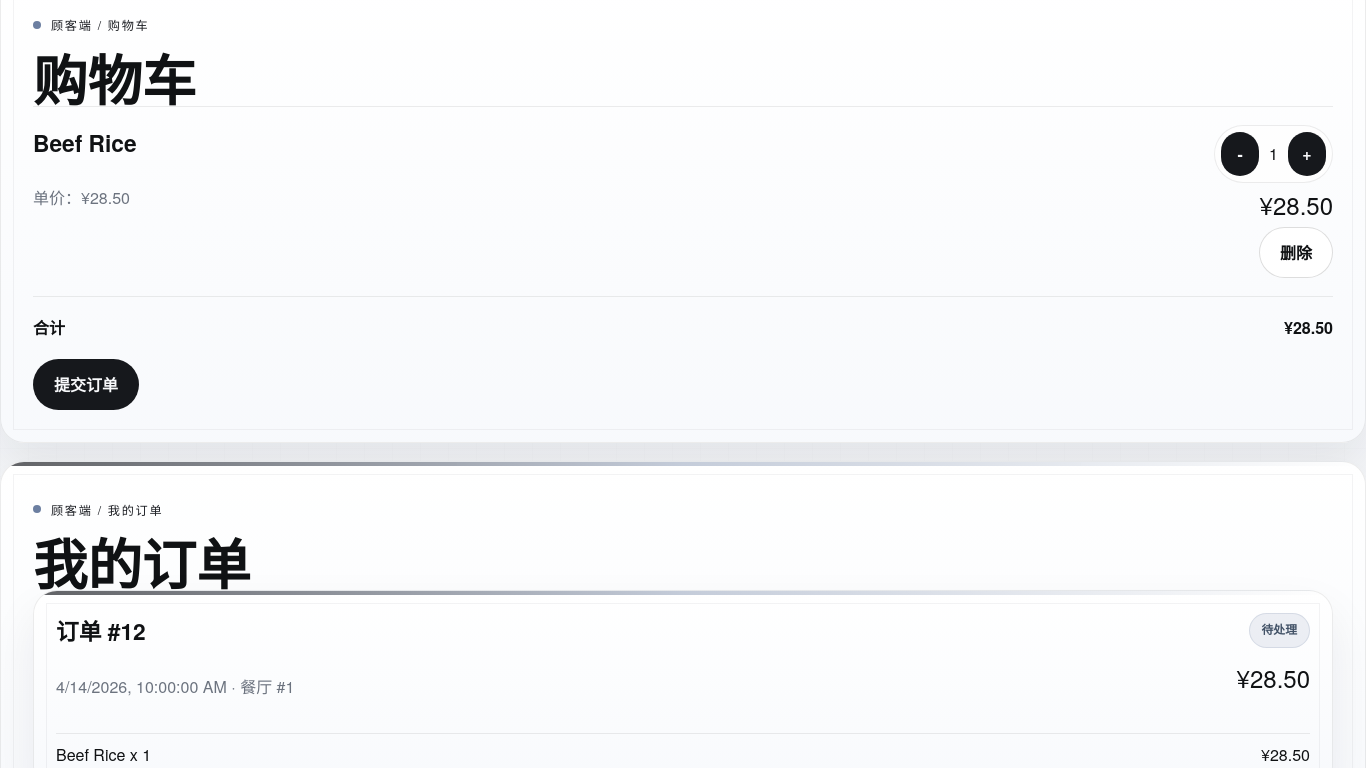
Test: CartDashboard › submits an order and refreshes cart and order history
(page scrolled)
Expected: the heading "Beef Rice" is shown, [33,125,136,161]
Click the button "提交订单" at {"x": 86, "y": 385}, box [33,359,139,410]
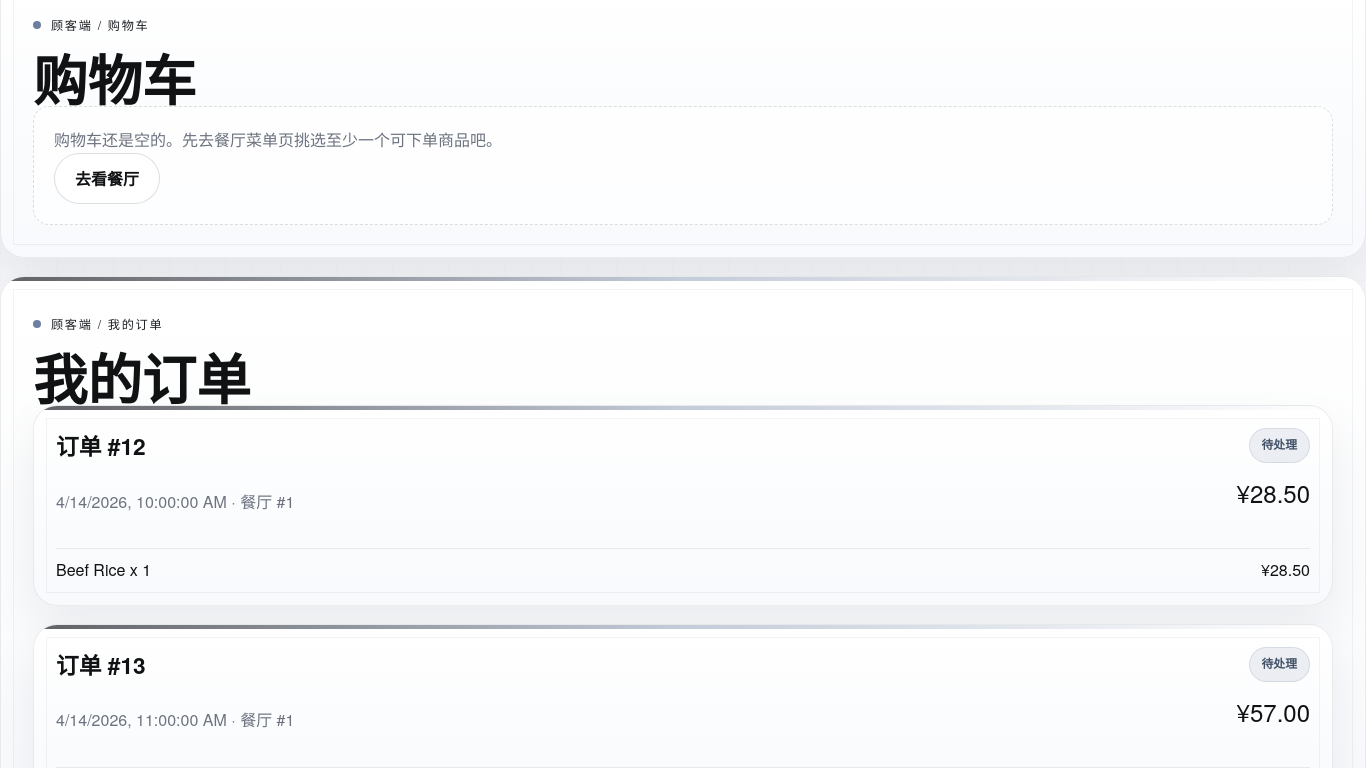
Expected: the heading "订单 #13" is shown, [56,648,146,681]
